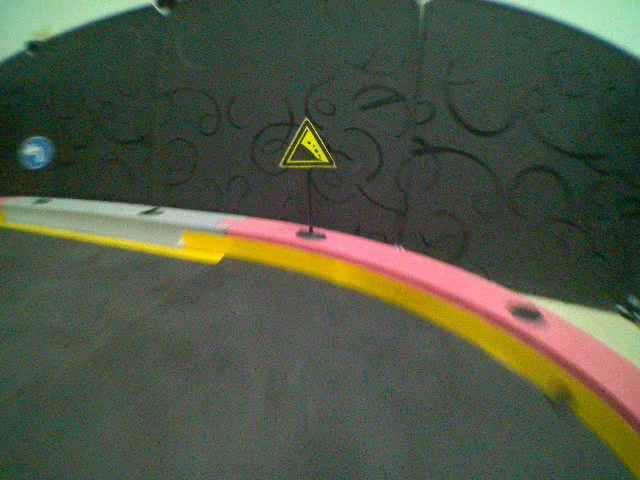fast: (282, 114, 339, 170)
turn: (17, 133, 53, 172)
